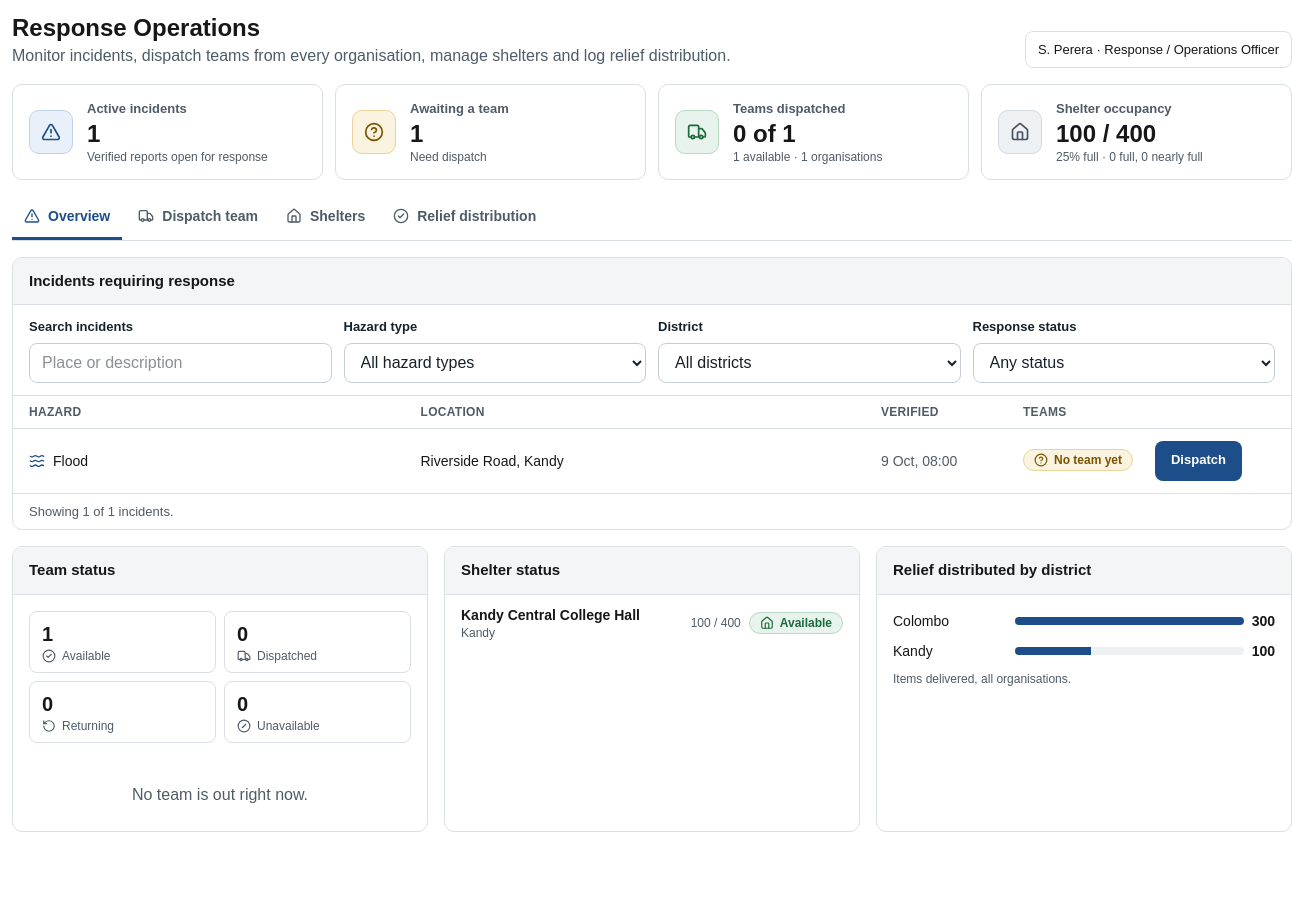
Scenario: Relief tab › adds the quantities up per district
This screenshot has width=1292, height=912.
expect the text "Active incidents" is shown: met, box [87,101,187,116]
Click the tab "Relief distribution". click: (465, 218)
box: [381,196,548,240]
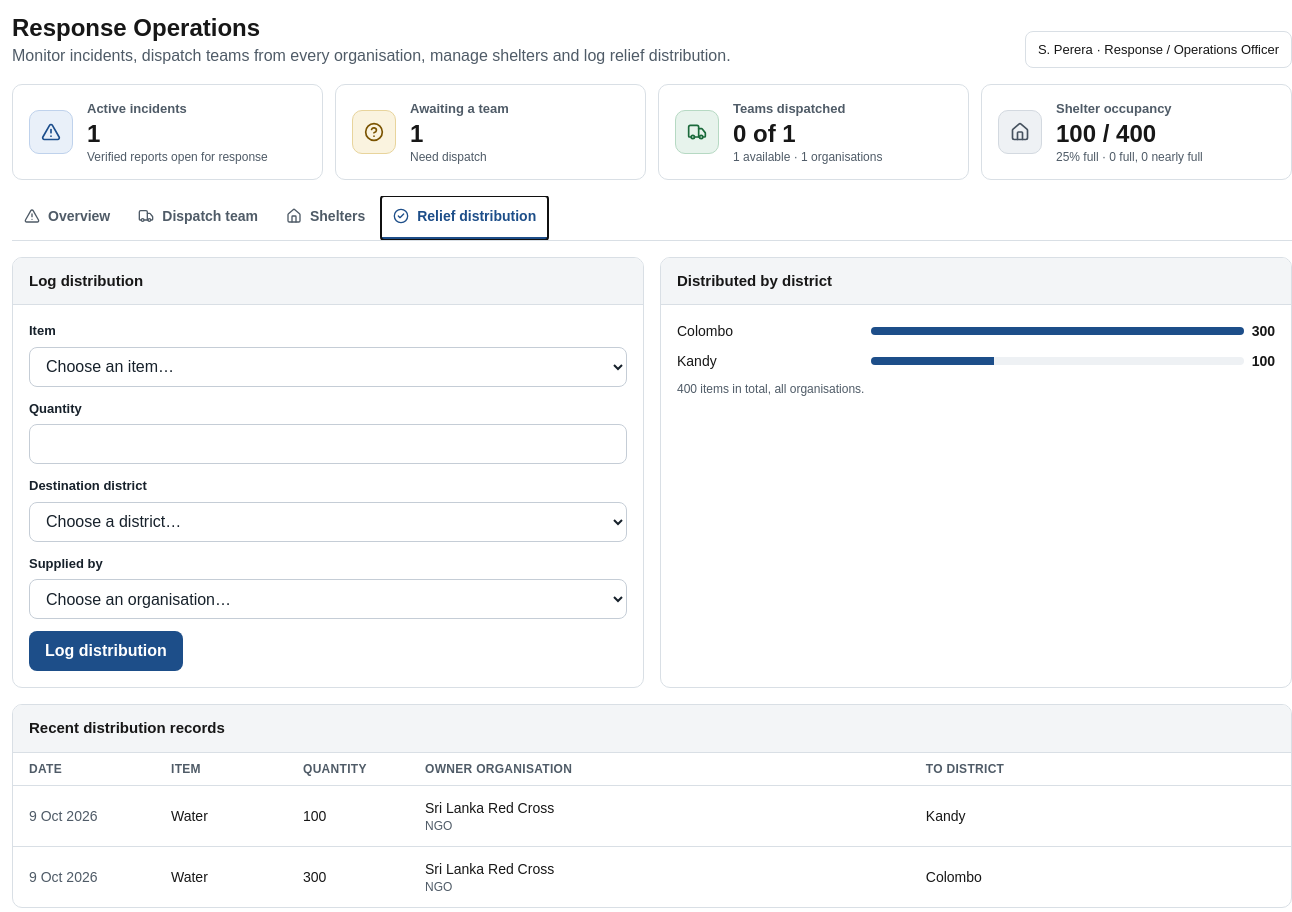
expect the text "400 items in total, all organisations." is shown: met, box [677,382,864,396]
